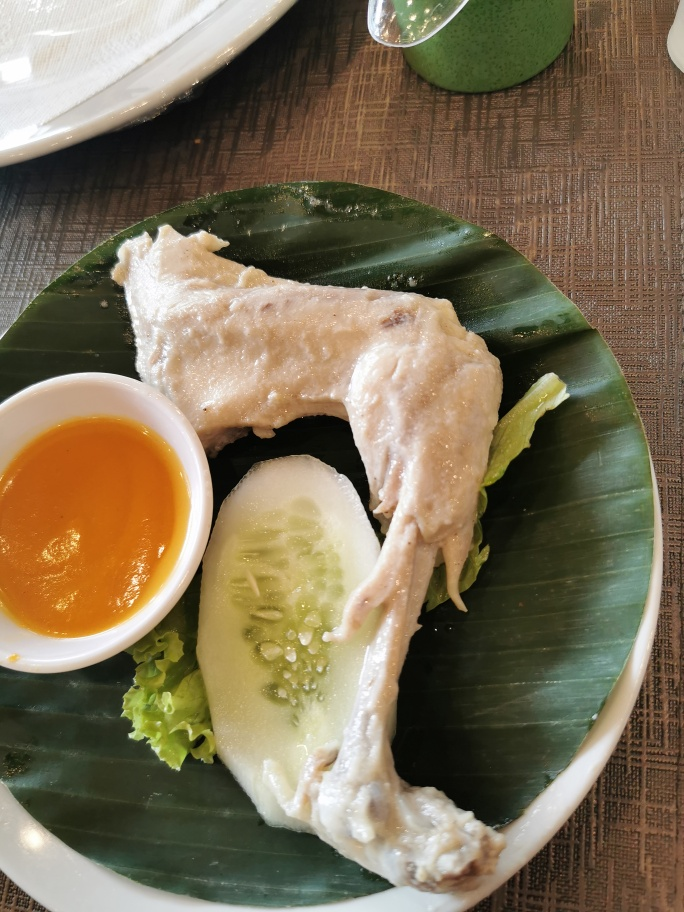ayam pop: (110, 226, 505, 880)
extra: (17, 431, 381, 832)
